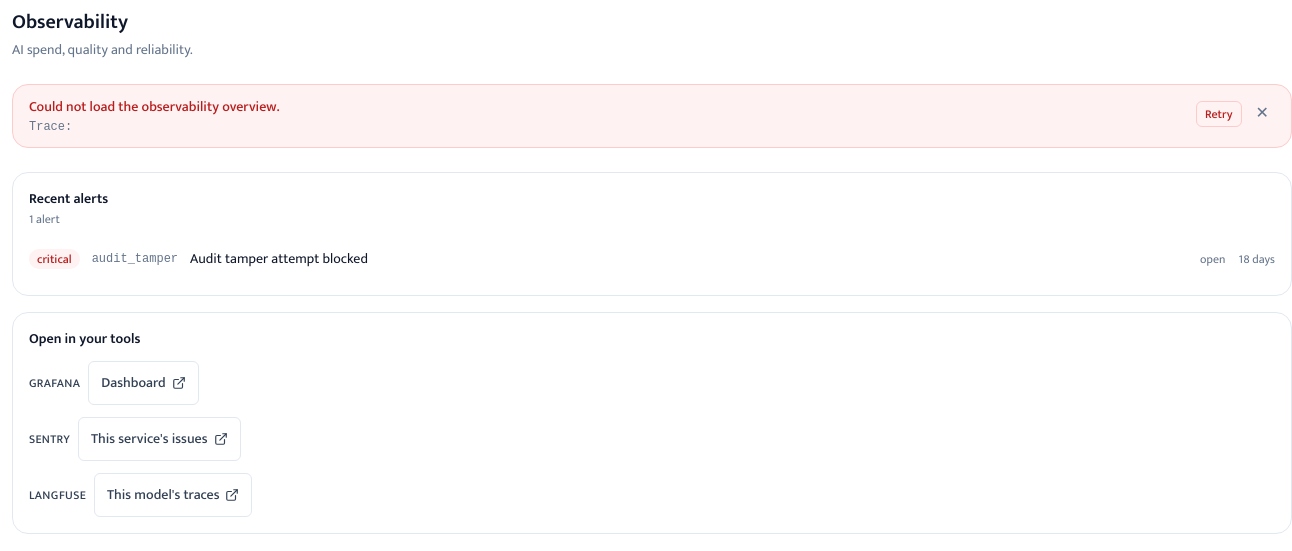
Scenario: ObservabilityOverviewPage › dismisses the error banner without leaving the page broken
Expected: the message "Could not load the observability overview. Trace: Retry ✕" is shown, [12, 84, 1291, 148]
Click the button with test id "error-banner-dismiss" at point(1262, 114), box [1250, 97, 1275, 131]
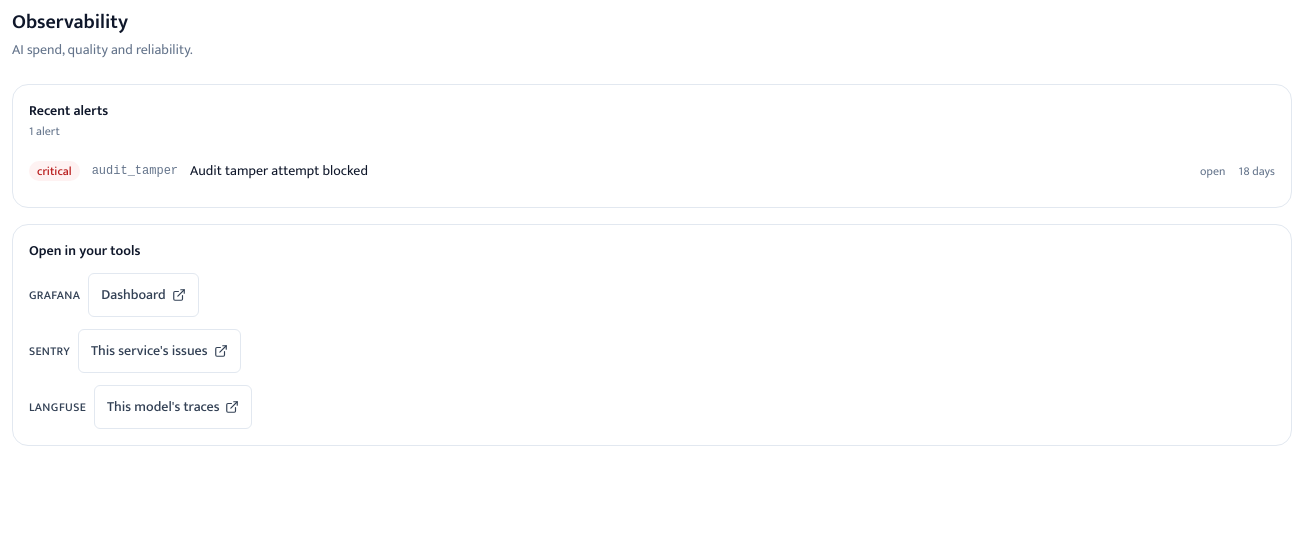
Expected: the message with test id "error-banner" is gone
